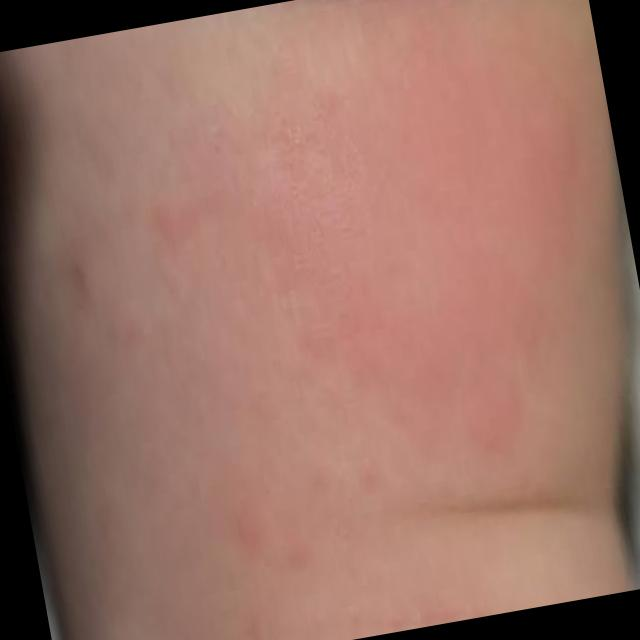redness: (163, 55, 579, 457)
